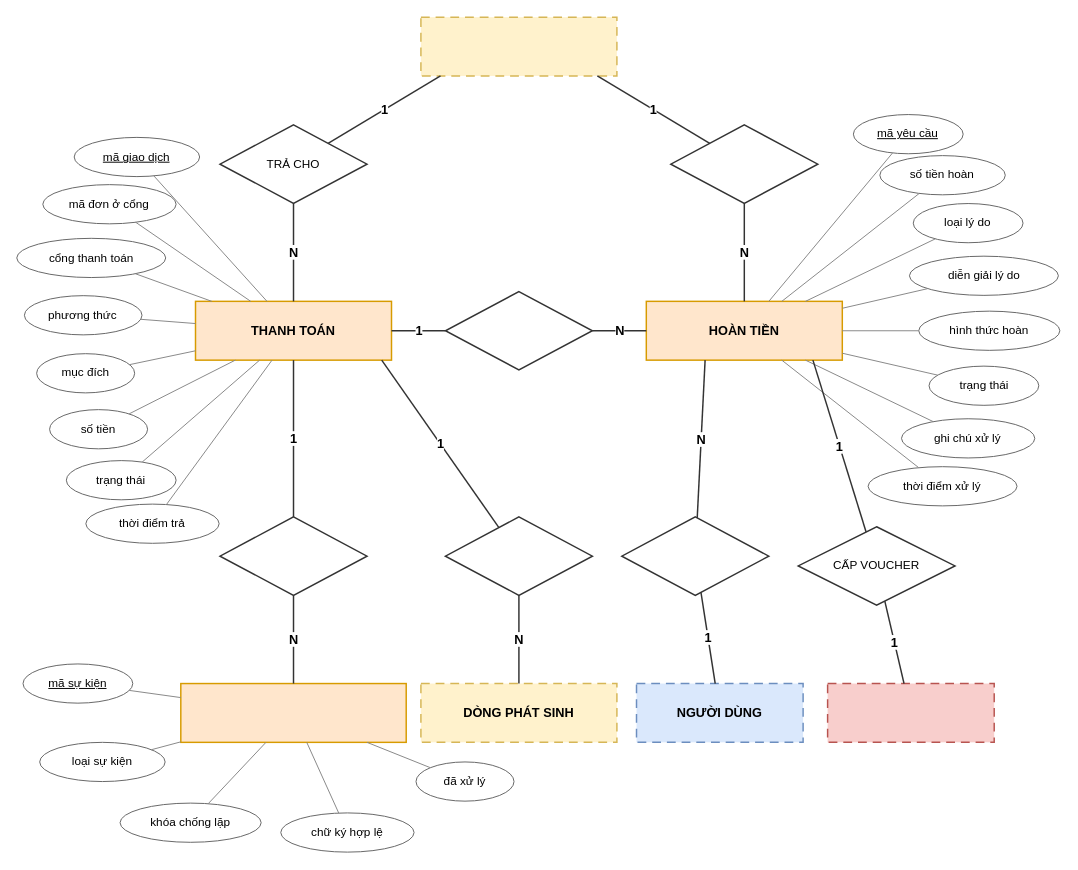
This 1078x870 diagram has some shape labels left out. The centre of each missing label's shape, as x and y in pixels:
HOÀN CHO: pixel 744 164
HOÀN TỪ: pixel 518 330
KHUYẾN MÃI: pixel 910 712
SINH RA: pixel 293 556
SỰ KIỆN THANH TOÁN: pixel 293 712
TRẢ DÒNG: pixel 518 556
XỬ LÝ: pixel 695 556
ĐẶT CHỖ: pixel 518 46
